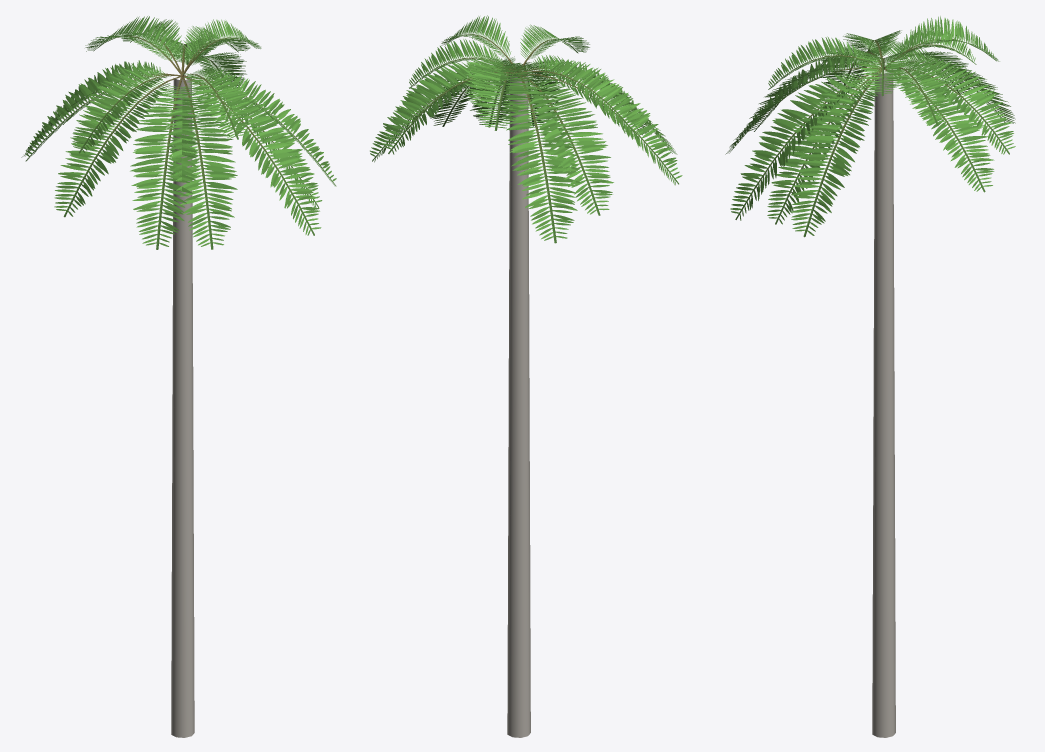
Rendered from syagrus-romanzoffiana.glb.
3 renders of one model, left to right at view 1: azimuth 30°, elevation 25°; view 2: azimuth 150°, elevation 25°; view 3: azimuth 270°, elevation 25°, orthographic.
Parts seen in each view (by area): view 1: fronde, estipe; view 2: fronde, estipe; view 3: fronde, estipe.
Part boxes in pixels (left/top/right/bottom): fronde: left=21, top=16, right=336, bottom=249; estipe: left=171, top=78, right=194, bottom=737; fronde: left=370, top=15, right=682, bottom=243; estipe: left=507, top=74, right=530, bottom=737; fronde: left=725, top=16, right=1015, bottom=237; estipe: left=872, top=72, right=895, bottom=737.
Bounding box in the file's own units: 5 × 12 × 4.87.
2 materials, 1 textured.
